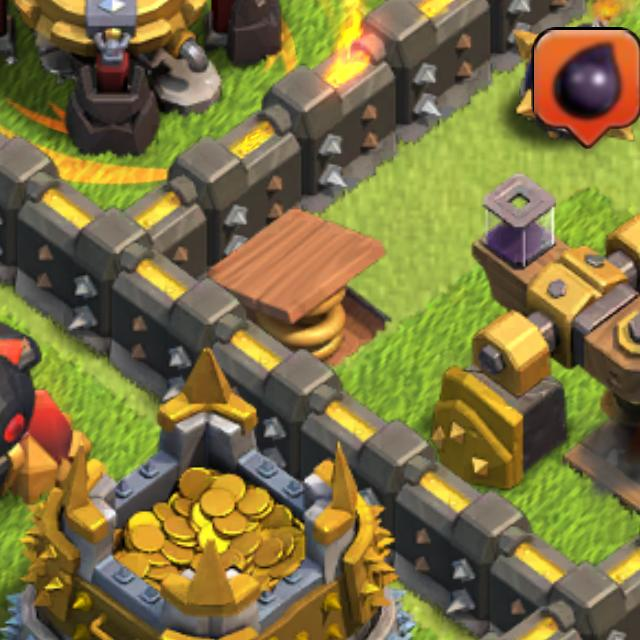FullElixirNegro: (532, 28, 640, 148)
